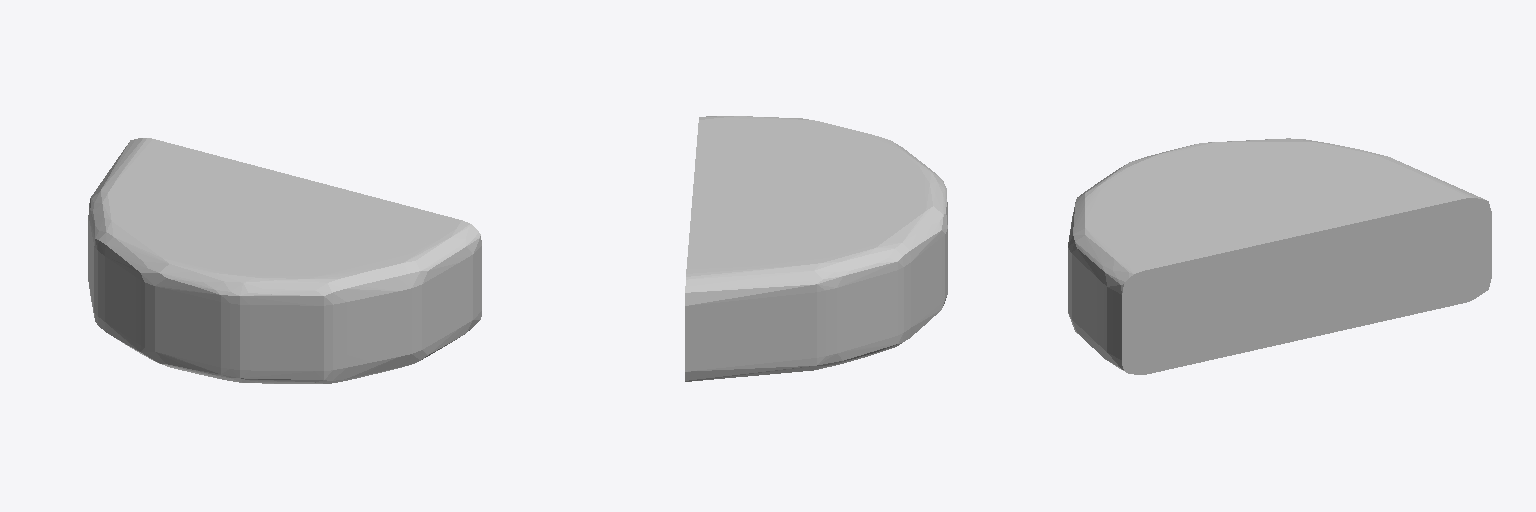
The model's file is arm_v1__1__1_mesh_0_collision_4.obj.
3 renders of one model, left to right at view 1: azimuth 30°, elevation 25°; view 2: azimuth 150°, elevation 25°; view 3: azimuth 270°, elevation 25°, orthographic.
Bounding box in the file's own units: 0.0069 × 0.0023 × 0.0085.